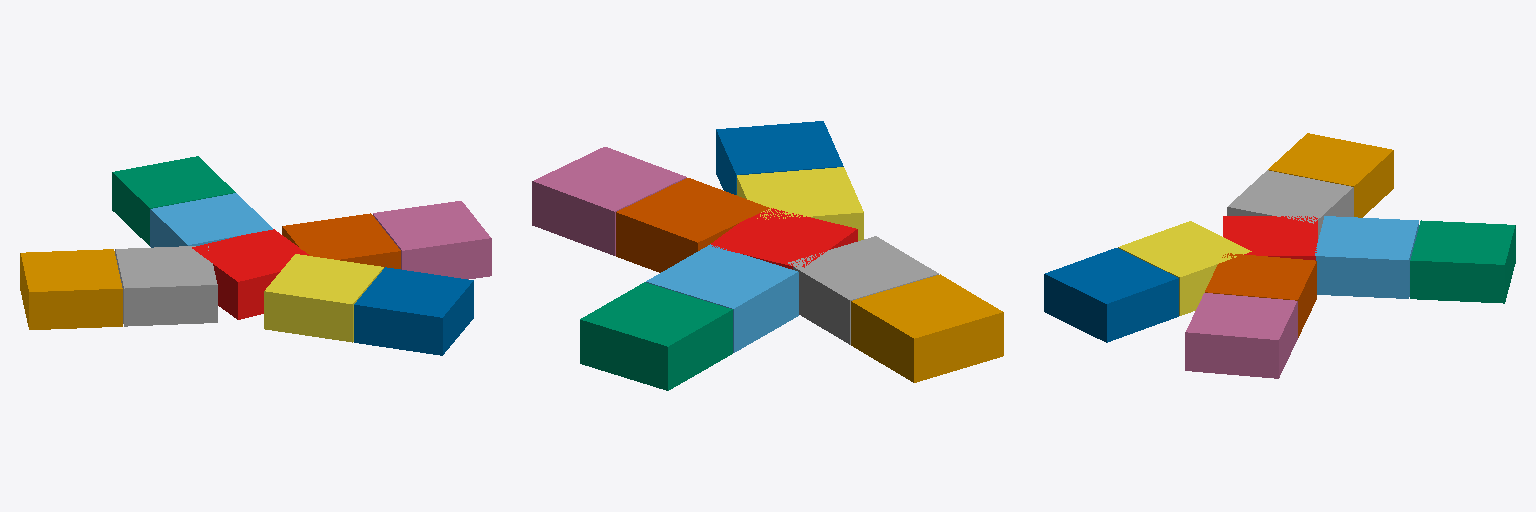
URDF robot description (Model_97):
<?xml version='1.0' encoding='UTF-8'?>
<robot name="Model_97">
  <link name="base_link">
    <inertial>
      <origin xyz="0.0 0.0 0.0" rpy="0.0 -0.0 0.0"/>
      <mass value="1.0"/>
      <inertia ixx="1.0" ixy="0.0" ixz="0.0" iyy="1.0" iyz="0.0" izz="1.0"/>
    </inertial>
    <visual>
      <geometry>
        <box size="0.67 0.67 0.3 "/>
      </geometry>
      <material name="red"/>
      <origin xyz="0.0 0.0 0.0" rpy="0.0 -0.0 0.0"/>
    </visual>
    <collision>
      <geometry>
        <box size="0.67 0.67 0.3 "/>
      </geometry>
      <origin xyz="0.0 0.0 0.0" rpy="0.0 0.0 0.0"/>
    </collision>
  </link>
  <link name="arm_0_arm1">
    <inertial>
      <origin xyz="0.0 0.34 0.0" rpy="0.0 0.0 0.0"/>
      <mass value="1.0"/>
      <inertia ixx="0.0" ixy="0.0" ixz="0.0" iyy="0.0" iyz="0.0" izz="0.0"/>
    </inertial>
    <visual>
      <geometry>
        <box size="0.67 0.67 0.3 "/>
      </geometry>
      <origin xyz="0.0 0.34 0.0" rpy="0.0 0.0 0.0"/>
    </visual>
    <collision>
      <geometry>
        <box size="0.67 0.67 0.3 "/>
      </geometry>
      <origin xyz="0.0 0.34 0.0" rpy="0.0 0.0 0.0"/>
    </collision>
  </link>
  <link name="arm_0_arm2">
    <inertial>
      <origin xyz="0.0 0.34 0.0" rpy="0.0 0.0 0.0"/>
      <mass value="1.0"/>
      <inertia ixx="0.0" ixy="0.0" ixz="0.0" iyy="0.0" iyz="0.0" izz="0.0"/>
    </inertial>
    <visual>
      <geometry>
        <box size="0.67 0.67 0.3 "/>
      </geometry>
      <origin xyz="0.0 0.34 0.0" rpy="0.0 0.0 0.0"/>
    </visual>
    <collision>
      <geometry>
        <box size="0.67 0.67 0.3 "/>
      </geometry>
      <origin xyz="0.0 0.34 0.0" rpy="0.0 0.0 0.0"/>
    </collision>
  </link>
  <link name="arm_1_arm1">
    <inertial>
      <origin xyz="0.0 0.34 0.0" rpy="0.0 0.0 0.0"/>
      <mass value="1.0"/>
      <inertia ixx="0.0" ixy="0.0" ixz="0.0" iyy="0.0" iyz="0.0" izz="0.0"/>
    </inertial>
    <visual>
      <geometry>
        <box size="0.67 0.67 0.3 "/>
      </geometry>
      <origin xyz="0.0 0.34 0.0" rpy="0.0 0.0 0.0"/>
    </visual>
    <collision>
      <geometry>
        <box size="0.67 0.67 0.3 "/>
      </geometry>
      <origin xyz="0.0 0.34 0.0" rpy="0.0 0.0 0.0"/>
    </collision>
  </link>
  <link name="arm_1_arm2">
    <inertial>
      <origin xyz="0.0 0.34 0.0" rpy="0.0 0.0 0.0"/>
      <mass value="1.0"/>
      <inertia ixx="0.0" ixy="0.0" ixz="0.0" iyy="0.0" iyz="0.0" izz="0.0"/>
    </inertial>
    <visual>
      <geometry>
        <box size="0.67 0.67 0.3 "/>
      </geometry>
      <origin xyz="0.0 0.34 0.0" rpy="0.0 0.0 0.0"/>
    </visual>
    <collision>
      <geometry>
        <box size="0.67 0.67 0.3 "/>
      </geometry>
      <origin xyz="0.0 0.34 0.0" rpy="0.0 0.0 0.0"/>
    </collision>
  </link>
  <link name="arm_2_arm1">
    <inertial>
      <origin xyz="0.0 0.34 0.0" rpy="0.0 0.0 0.0"/>
      <mass value="1.0"/>
      <inertia ixx="0.0" ixy="0.0" ixz="0.0" iyy="0.0" iyz="0.0" izz="0.0"/>
    </inertial>
    <visual>
      <geometry>
        <box size="0.67 0.67 0.3 "/>
      </geometry>
      <origin xyz="0.0 0.34 0.0" rpy="0.0 0.0 0.0"/>
    </visual>
    <collision>
      <geometry>
        <box size="0.67 0.67 0.3 "/>
      </geometry>
      <origin xyz="0.0 0.34 0.0" rpy="0.0 0.0 0.0"/>
    </collision>
  </link>
  <link name="arm_2_arm2">
    <inertial>
      <origin xyz="0.0 0.34 0.0" rpy="0.0 0.0 0.0"/>
      <mass value="1.0"/>
      <inertia ixx="0.0" ixy="0.0" ixz="0.0" iyy="0.0" iyz="0.0" izz="0.0"/>
    </inertial>
    <visual>
      <geometry>
        <box size="0.67 0.67 0.3 "/>
      </geometry>
      <origin xyz="0.0 0.34 0.0" rpy="0.0 0.0 0.0"/>
    </visual>
    <collision>
      <geometry>
        <box size="0.67 0.67 0.3 "/>
      </geometry>
      <origin xyz="0.0 0.34 0.0" rpy="0.0 0.0 0.0"/>
    </collision>
  </link>
  <link name="arm_3_arm1">
    <inertial>
      <origin xyz="0.0 0.34 0.0" rpy="0.0 0.0 0.0"/>
      <mass value="1.0"/>
      <inertia ixx="0.0" ixy="0.0" ixz="0.0" iyy="0.0" iyz="0.0" izz="0.0"/>
    </inertial>
    <visual>
      <geometry>
        <box size="0.67 0.67 0.3 "/>
      </geometry>
      <origin xyz="0.0 0.34 0.0" rpy="0.0 0.0 0.0"/>
    </visual>
    <collision>
      <geometry>
        <box size="0.67 0.67 0.3 "/>
      </geometry>
      <origin xyz="0.0 0.34 0.0" rpy="0.0 0.0 0.0"/>
    </collision>
  </link>
  <link name="arm_3_arm2">
    <inertial>
      <origin xyz="0.0 0.34 0.0" rpy="0.0 0.0 0.0"/>
      <mass value="1.0"/>
      <inertia ixx="0.0" ixy="0.0" ixz="0.0" iyy="0.0" iyz="0.0" izz="0.0"/>
    </inertial>
    <visual>
      <geometry>
        <box size="0.67 0.67 0.3 "/>
      </geometry>
      <origin xyz="0.0 0.34 0.0" rpy="0.0 0.0 0.0"/>
    </visual>
    <collision>
      <geometry>
        <box size="0.67 0.67 0.3 "/>
      </geometry>
      <origin xyz="0.0 0.34 0.0" rpy="0.0 0.0 0.0"/>
    </collision>
  </link>
  <joint name="arm_0_jointBase" type="fixed">
    <limit effort="1.57" velocity="1.57" lower="-1.57" upper="1.57"/>
    <parent link="base_link"/>
    <child link="arm_0_arm1"/>
    <axis xyz="1. 0. 0."/>
    <origin xyz="0.0 0.34 0.0" rpy="0.0 0.0 -0.11"/>
  </joint>
  <joint name="arm_0_joint1" type="revolute">
    <limit effort="1.57" velocity="1.57" lower="-1.57" upper="1.57"/>
    <parent link="arm_0_arm1"/>
    <child link="arm_0_arm2"/>
    <axis xyz="1. 0. 0."/>
    <origin xyz="0.0 0.68 0.0" rpy="0.0 0.0 0.0"/>
  </joint>
  <joint name="arm_1_jointBase" type="fixed">
    <limit effort="1.57" velocity="1.57" lower="-1.57" upper="1.57"/>
    <parent link="base_link"/>
    <child link="arm_1_arm1"/>
    <axis xyz="1. 0. 0."/>
    <origin xyz="0.0 -0.34 0.0" rpy="0.0 0.0 -2.4331853071795866"/>
  </joint>
  <joint name="arm_1_joint1" type="revolute">
    <limit effort="1.57" velocity="1.57" lower="-1.57" upper="1.57"/>
    <parent link="arm_1_arm1"/>
    <child link="arm_1_arm2"/>
    <axis xyz="1. 0. 0."/>
    <origin xyz="0.0 0.68 0.0" rpy="0.0 0.0 0.0"/>
  </joint>
  <joint name="arm_2_jointBase" type="fixed">
    <limit effort="1.57" velocity="1.57" lower="-1.57" upper="1.57"/>
    <parent link="base_link"/>
    <child link="arm_2_arm1"/>
    <axis xyz="1. 0. 0."/>
    <origin xyz="0.34 0.0 0.0" rpy="0.0 0.0 -1.77"/>
  </joint>
  <joint name="arm_2_joint1" type="revolute">
    <limit effort="1.57" velocity="1.57" lower="-1.57" upper="1.57"/>
    <parent link="arm_2_arm1"/>
    <child link="arm_2_arm2"/>
    <axis xyz="1. 0. 0."/>
    <origin xyz="0.0 0.68 0.0" rpy="0.0 0.0 0.0"/>
  </joint>
  <joint name="arm_3_jointBase" type="fixed">
    <limit effort="1.57" velocity="1.57" lower="-1.57" upper="1.57"/>
    <parent link="base_link"/>
    <child link="arm_3_arm1"/>
    <axis xyz="1. 0. 0."/>
    <origin xyz="-0.34 0.0 0.0" rpy="0.0 0.0 1.14"/>
  </joint>
  <joint name="arm_3_joint1" type="revolute">
    <limit effort="1.57" velocity="1.57" lower="-1.57" upper="1.57"/>
    <parent link="arm_3_arm1"/>
    <child link="arm_3_arm2"/>
    <axis xyz="1. 0. 0."/>
    <origin xyz="0.0 0.68 0.0" rpy="0.0 0.0 0.0"/>
  </joint>
  <material name="red">
    <color rgba="0.969 0.129 0.122 1.   "/>
  </material>
</robot>

--- What the picture shows (computed from the rendered views, not written in the file) ---
The picture shows the robot from 3 angles, left to right: view 1: azimuth 30°, elevation 25°; view 2: azimuth 150°, elevation 25°; view 3: azimuth 270°, elevation 25°; orthographic projection.
Model Model_97 with 9 links and 8 joints (4 revolute, 4 fixed), rooted at base_link, posed every joint at zero.
Links seen in each view (by area): view 1: arm_1_arm2, arm_3_arm2, arm_3_arm1, arm_1_arm1, arm_2_arm2, base_link, arm_0_arm2, arm_0_arm1, arm_2_arm1; view 2: arm_3_arm2, arm_0_arm2, arm_2_arm2, arm_2_arm1, arm_0_arm1, arm_3_arm1, arm_1_arm2, arm_1_arm1, base_link; view 3: arm_1_arm2, arm_2_arm2, arm_0_arm2, arm_0_arm1, arm_3_arm2, arm_1_arm1, arm_2_arm1, arm_3_arm1, base_link.
Link boxes in pixels (x1,y1,x2,y2): arm_1_arm2: [354, 267, 473, 355]; arm_3_arm2: [20, 249, 122, 329]; arm_3_arm1: [115, 246, 217, 326]; arm_1_arm1: [264, 254, 383, 342]; arm_2_arm2: [373, 201, 491, 279]; base_link: [192, 229, 308, 319]; arm_0_arm2: [112, 156, 235, 245]; arm_0_arm1: [150, 193, 272, 247]; arm_2_arm1: [282, 213, 400, 268]; arm_3_arm2: [851, 274, 1003, 382]; arm_0_arm2: [580, 282, 732, 390]; arm_2_arm2: [532, 147, 686, 255]; arm_2_arm1: [616, 178, 768, 272]; arm_0_arm1: [646, 244, 798, 352]; arm_3_arm1: [788, 236, 938, 344]; arm_1_arm2: [716, 121, 843, 194]; arm_1_arm1: [737, 167, 863, 240]; base_link: [711, 208, 857, 269]; arm_1_arm2: [1044, 248, 1178, 342]; arm_2_arm2: [1185, 293, 1297, 378]; arm_0_arm2: [1410, 220, 1515, 303]; arm_0_arm1: [1315, 216, 1418, 298]; arm_3_arm2: [1268, 133, 1393, 217]; arm_1_arm1: [1118, 221, 1251, 315]; arm_2_arm1: [1205, 253, 1316, 337]; arm_3_arm1: [1227, 170, 1353, 238]; base_link: [1223, 216, 1317, 260].
Bounding box of the posed robot: 3.45 × 3.31 × 0.3 m (x, y, z).
Geometry: primitives only (box / cylinder / sphere), no mesh files.